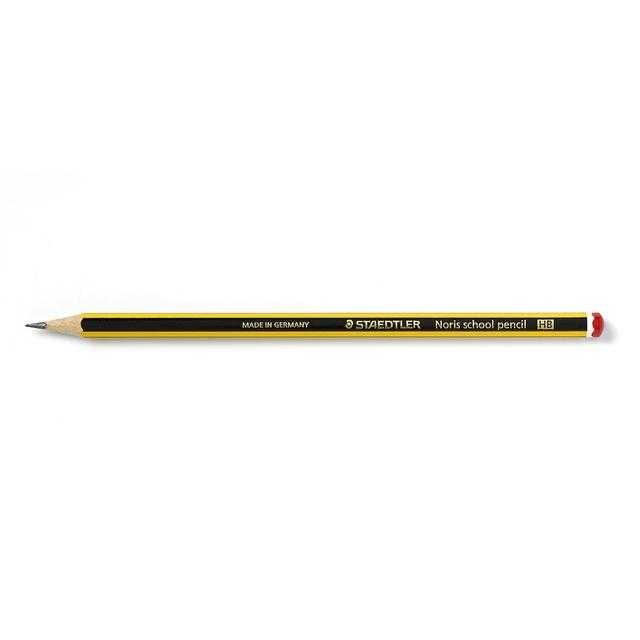pencil: (9, 277, 612, 367)
